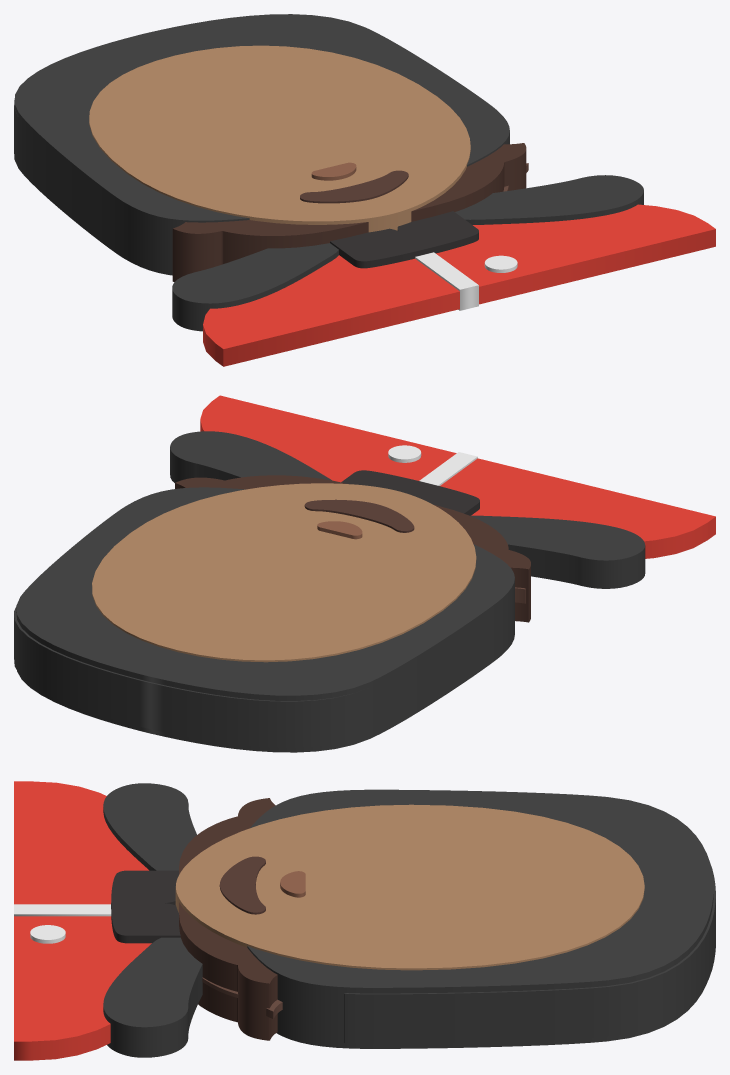
File: emoji_u1f482_1f3fd.glb
3 views of the same model, one above another, from view 1: azimuth 30°, elevation 25°; view 2: azimuth 150°, elevation 25°; view 3: azimuth 270°, elevation 25° (orthographic). The views are drawn at different scales.
Visible parts, largest first — view 1: emoji_u1f482_1f3fd; view 2: emoji_u1f482_1f3fd; view 3: emoji_u1f482_1f3fd.
Part boxes in pixels (x1=…): emoji_u1f482_1f3fd: x1=14, y1=14, x2=715, y2=366; emoji_u1f482_1f3fd: x1=14, y1=395, x2=715, y2=752; emoji_u1f482_1f3fd: x1=14, y1=781, x2=715, y2=1060.
Size of the model in its own units: 0.0292 by 0.0038 by 0.0333.
